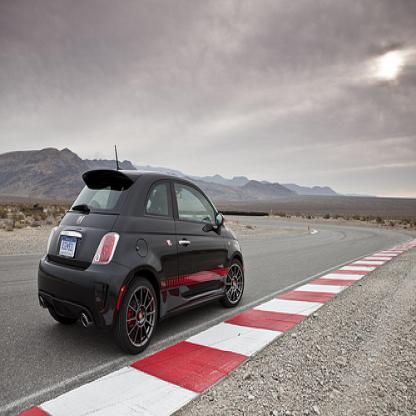car: (35, 144, 249, 360)
